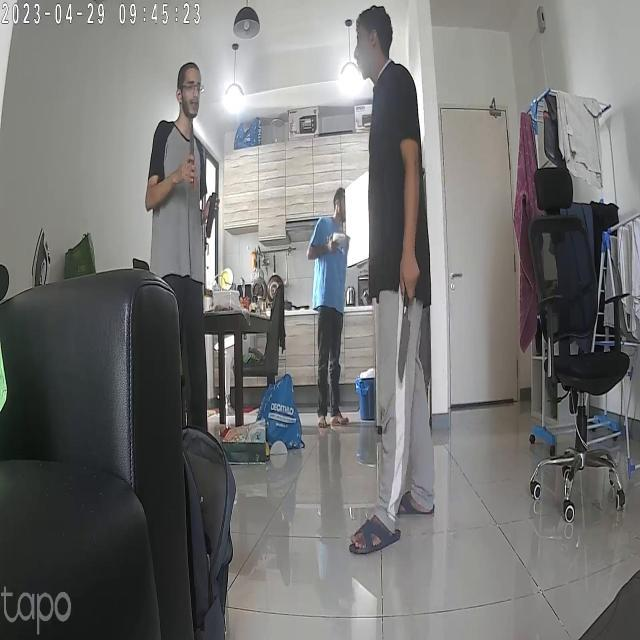Knife: (386, 288, 426, 392), (176, 120, 202, 180)
